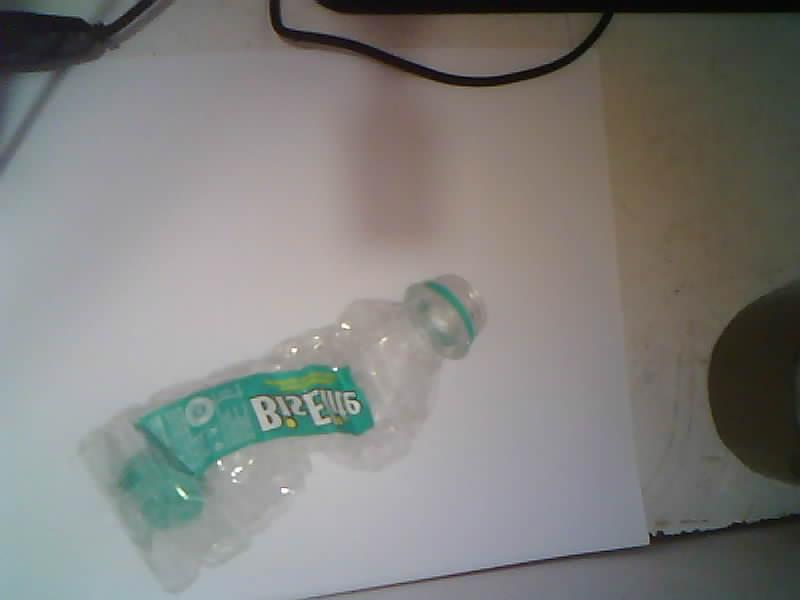non-biodegradable: (81, 276, 482, 591)
